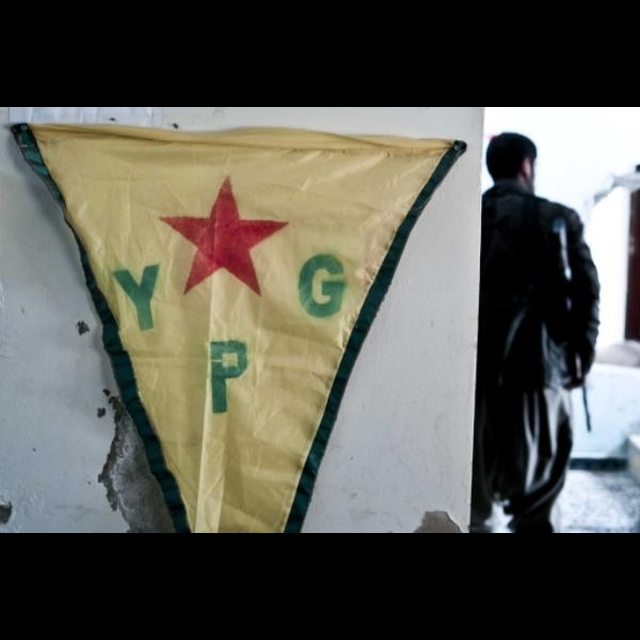YPG: (113, 163, 349, 416)
